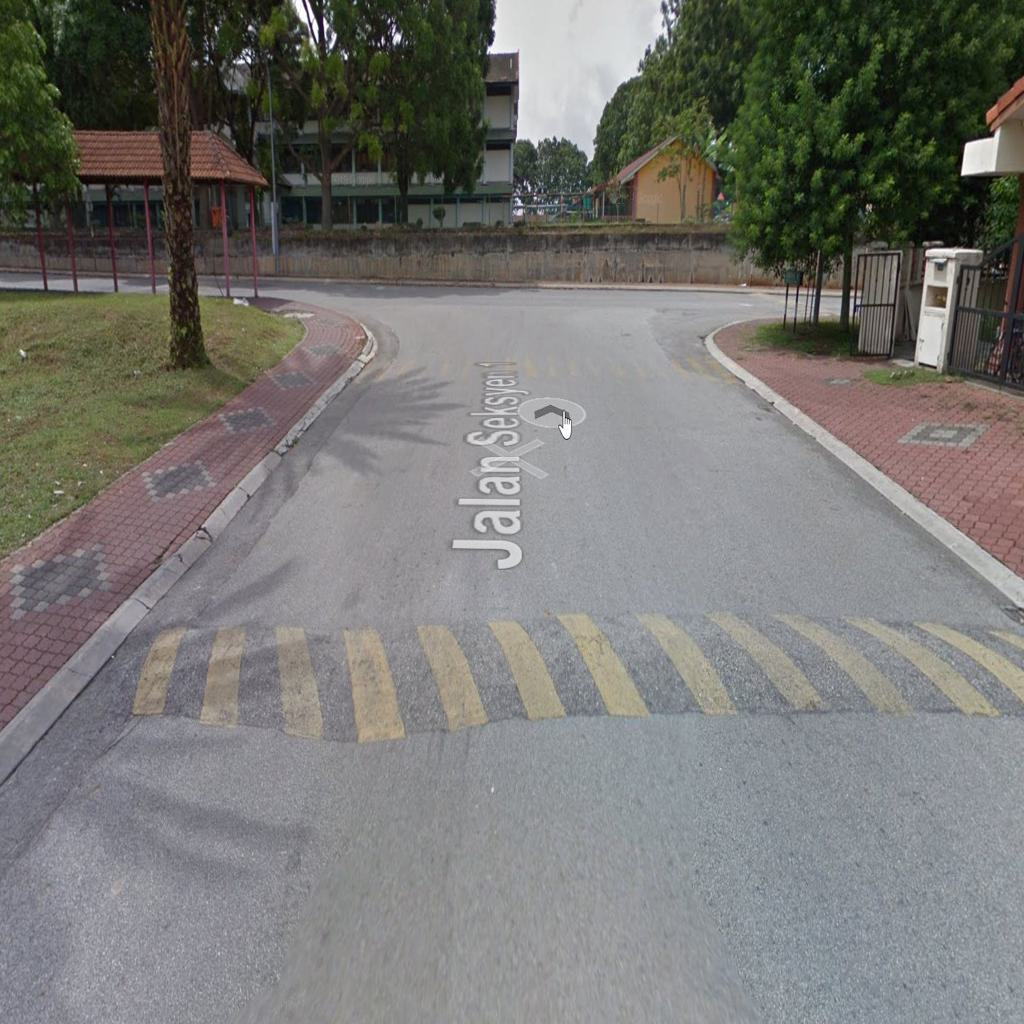Junction: (189, 215, 439, 387), (616, 233, 843, 392)
